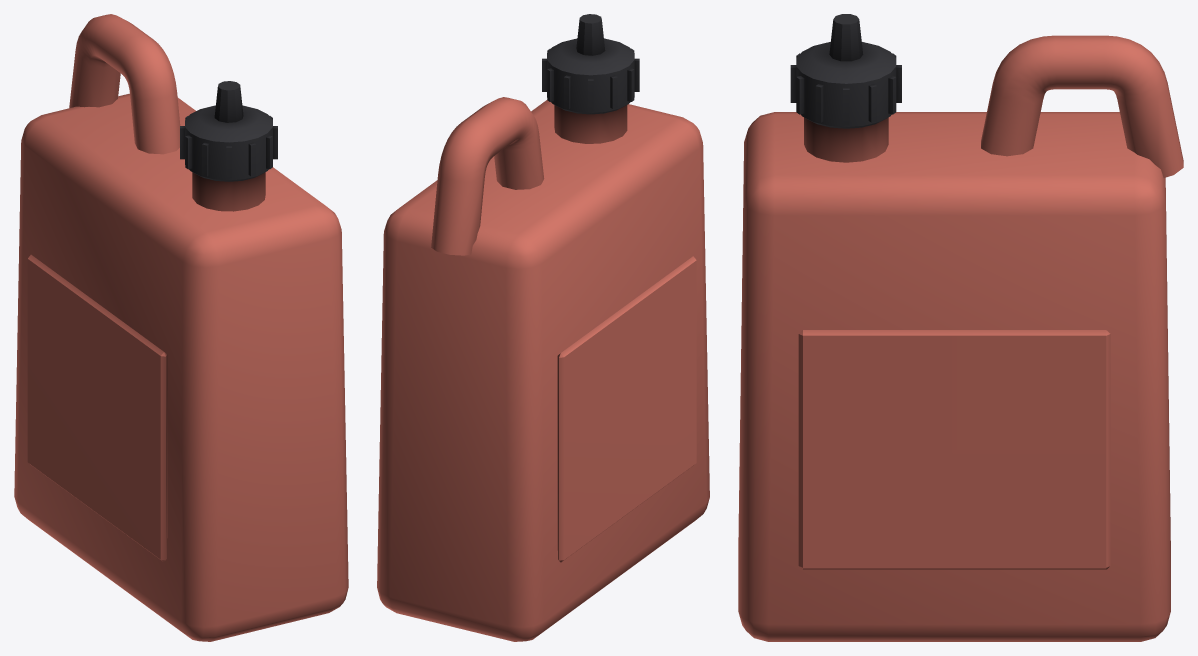
Rendered from oilcan.glb.
The picture shows the model from 3 angles, left to right: view 1: azimuth 30°, elevation 25°; view 2: azimuth 150°, elevation 25°; view 3: azimuth 270°, elevation 25°; orthographic projection. The views are drawn at different scales.
Visible parts, largest first — view 1: PART; view 2: PART; view 3: PART.
Part boxes in pixels (bbox=[...]): PART: bbox=[14, 14, 348, 641]; PART: bbox=[377, 14, 709, 641]; PART: bbox=[738, 14, 1183, 641].
Bounding box in the file's own units: 0.106 × 0.299 × 0.2055.
